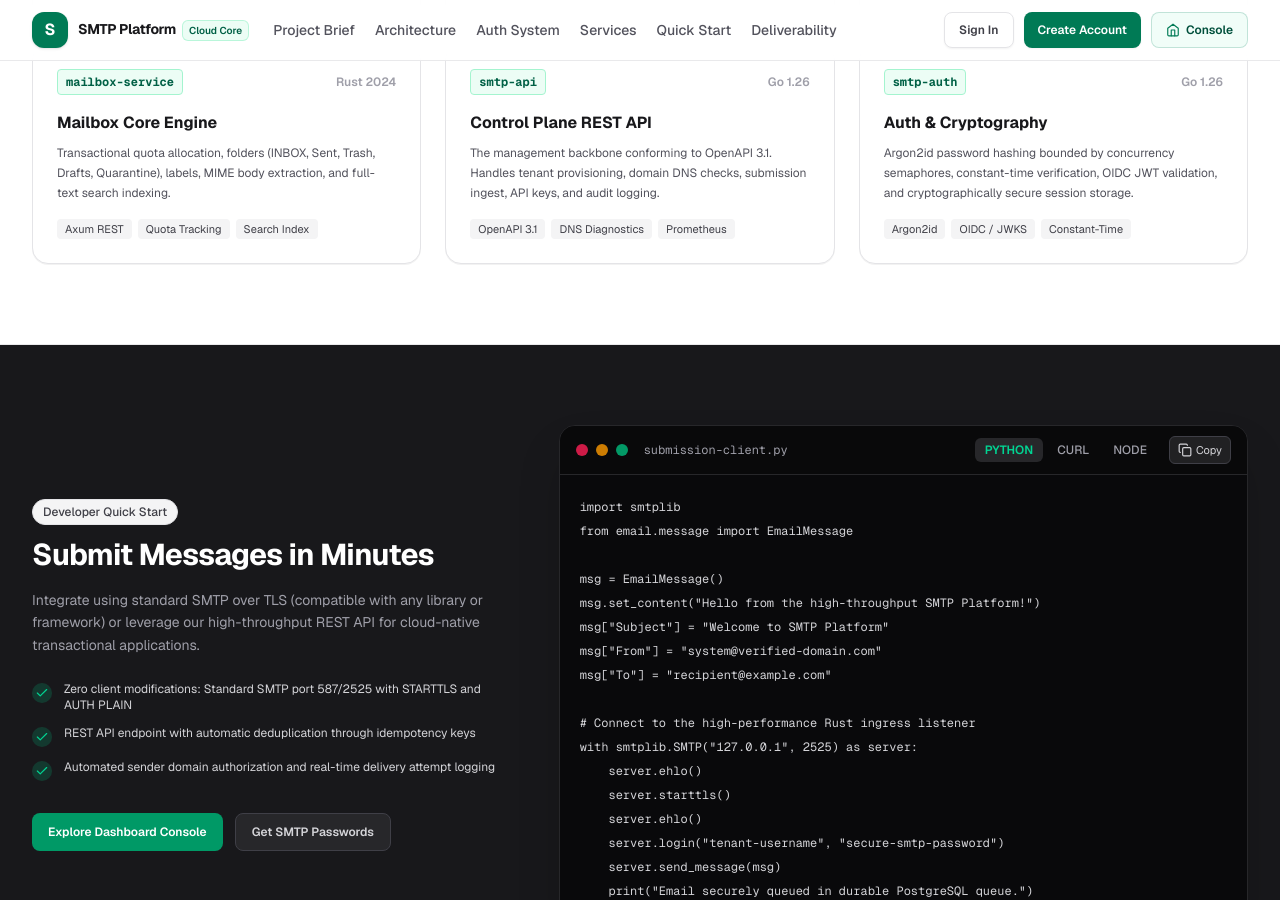
Test: LandingPage Component › switches code snippet tabs on click
The image size is (1280, 900).
(page scrolled)
Expected: the text "submission-client.py" is shown, [644,442,788,458]
Note: Click cURL tab
Click the button "CURL".
click(1073, 450)  # box [1047,438,1099,462]
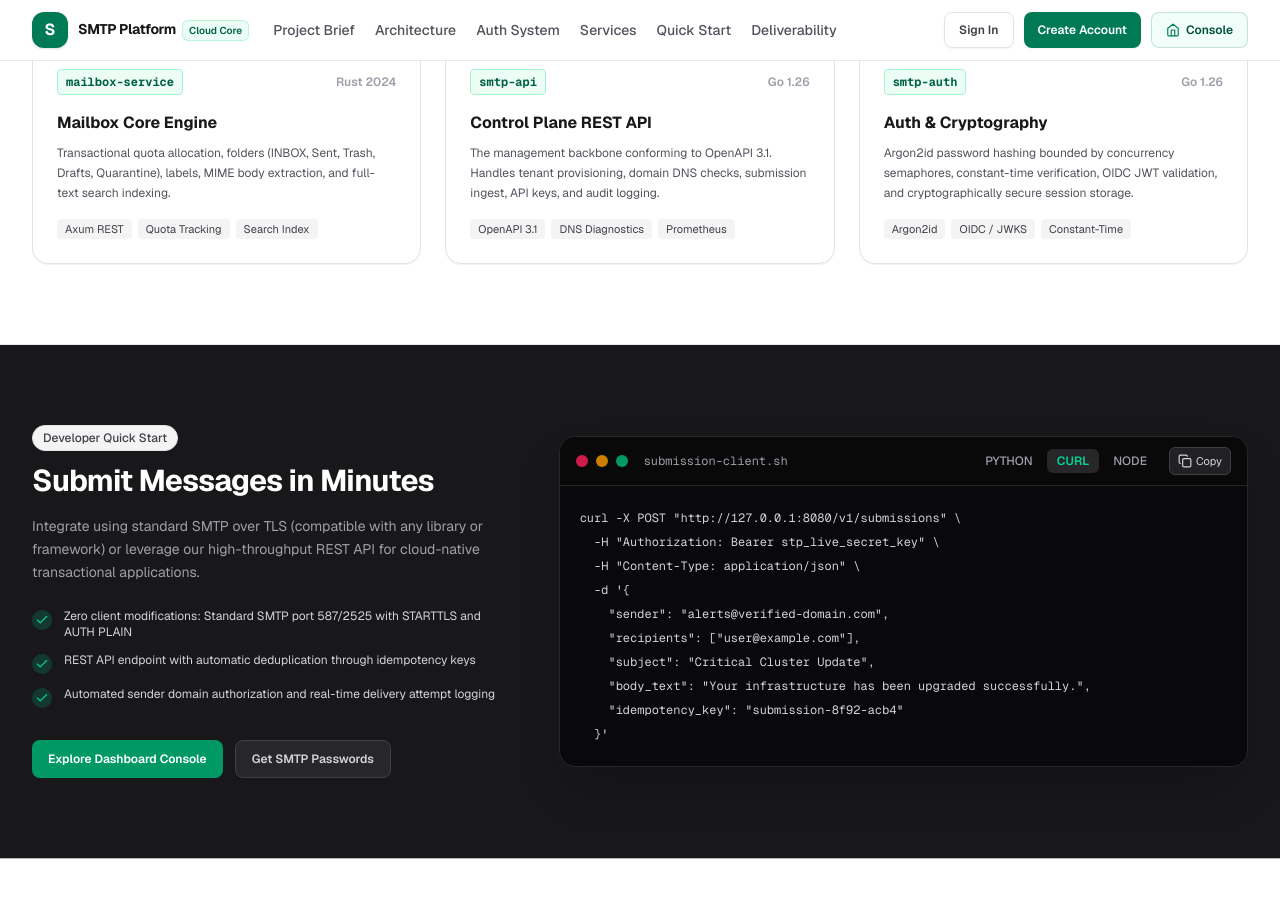
Expected: the text "submission-client.sh" is shown, [644,453,788,469]
Expected: the text "http://127.0.0.1:8080/v1/submissions" is shown, [580,510,1091,742]
Note: Click Node tab
Click the button "NODE".
click(1130, 461)  # box [1103,449,1157,473]
(page scrolled)
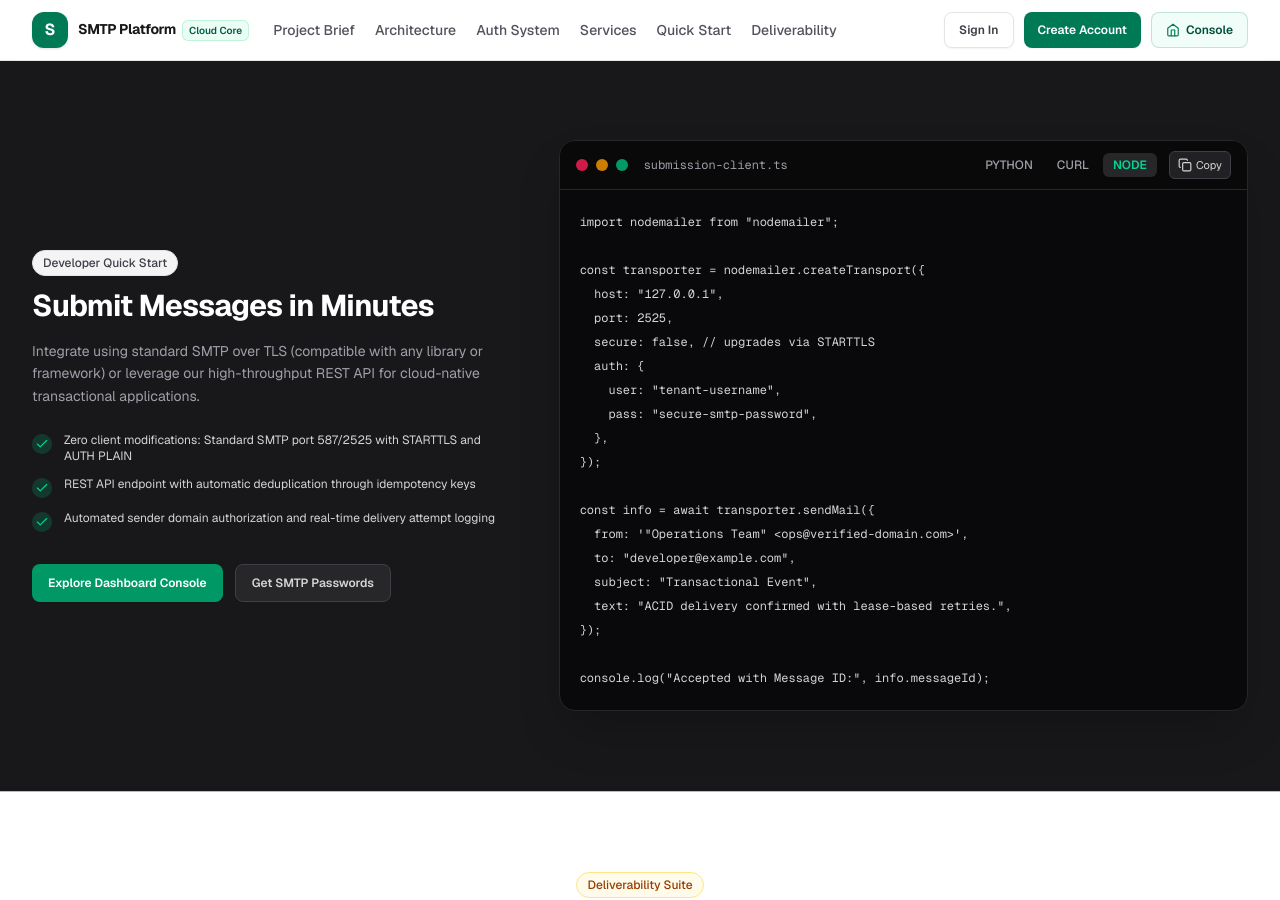
Expected: the text "submission-client.ts" is shown, [644,157,788,173]
Expected: the text "nodemailer.createTransport" is shown, [580,214,1012,686]
